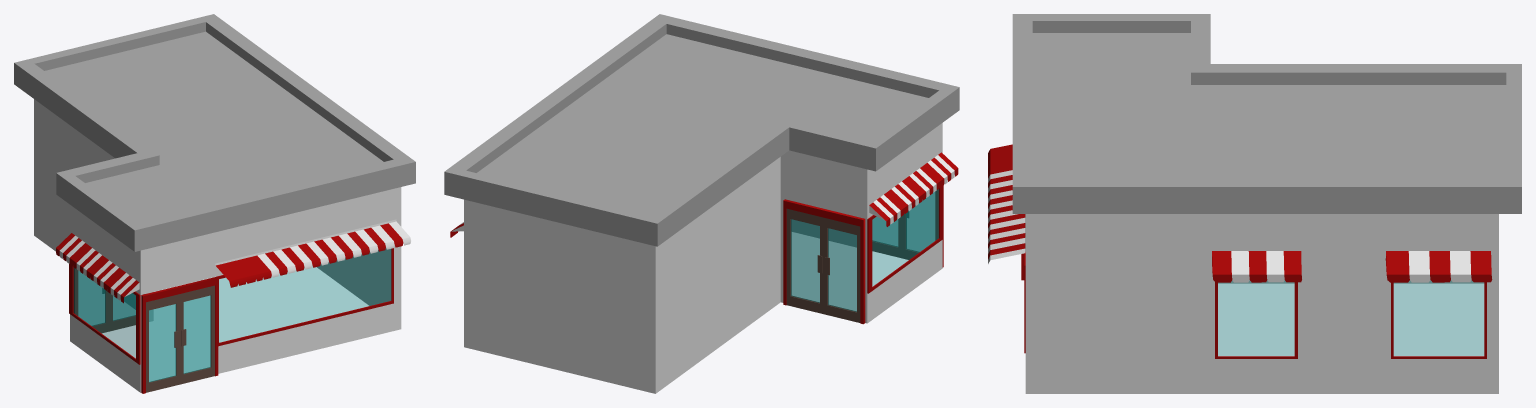
The model's file is Building_Cafe_Mod_01.fbx.
3 renders of one model, left to right at view 1: azimuth 30°, elevation 25°; view 2: azimuth 150°, elevation 25°; view 3: azimuth 270°, elevation 25°, orthographic. The views are drawn at different scales.
Visible parts, largest first — view 1: Building13, Shade, Door13, Door12, Shade3, Door17, Door16; view 2: Building13, Door16, Door17, Shade3, Door12, Door13; view 3: Building13, Shade1, Shade, Shade2.
Part boxes in pixels (x1,y1,x2,y2): Building13: [14, 14, 415, 393]; Shade: [215, 219, 410, 287]; Door13: [180, 285, 214, 384]; Door12: [146, 294, 180, 392]; Shade3: [56, 233, 139, 303]; Door17: [73, 268, 109, 333]; Door16: [109, 293, 143, 331]; Building13: [444, 14, 959, 393]; Door16: [786, 208, 823, 313]; Door17: [823, 218, 860, 322]; Shade3: [869, 152, 958, 226]; Door12: [902, 189, 938, 259]; Door13: [872, 216, 901, 258]; Building13: [1012, 14, 1521, 393]; Shade1: [1385, 251, 1492, 282]; Shade: [988, 144, 1025, 263]; Shade2: [1212, 251, 1301, 282].
Bounding box in the file's own units: 7.2 × 3.97 × 9.03.
